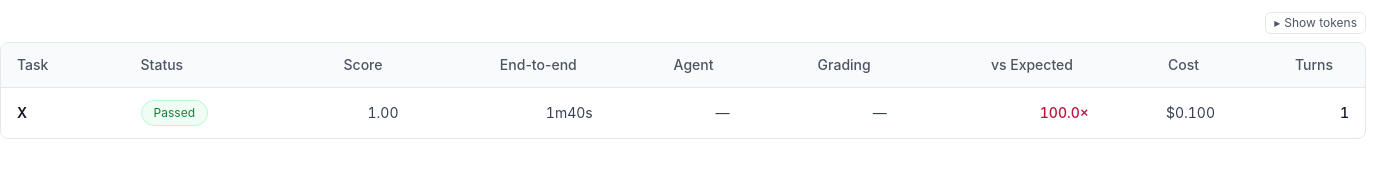
Test case: TaskGrid — Tokens↔USD toggle › USD mode prices each bucket and shows an 'estimated' badge
The width and height of the screenshot is (1378, 172).
Click the button "▸ Show tokens".
click(1316, 23)  # box [1265,12,1366,34]
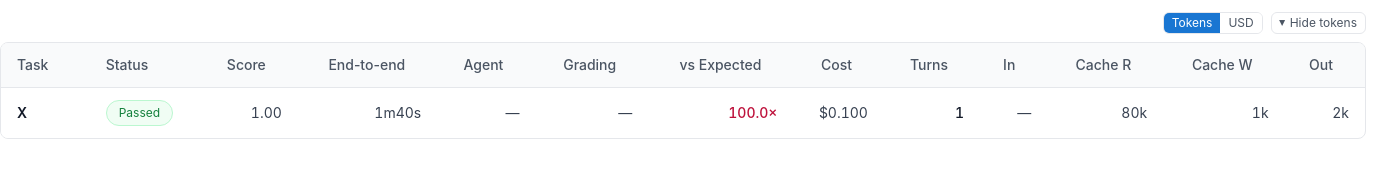
Click the button "USD".
click(1241, 23)  # box [1220,13,1262,33]
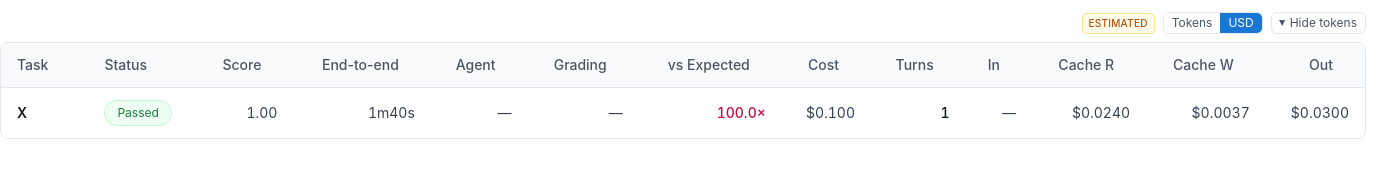
Check: the text "$0.0300" is shown, box [1266,88,1365,138]
Check: the text "$0.0240" is shown, box [1032,88,1146,138]
Check: the text "estimated" is shown, box [1082,12,1155,34]
